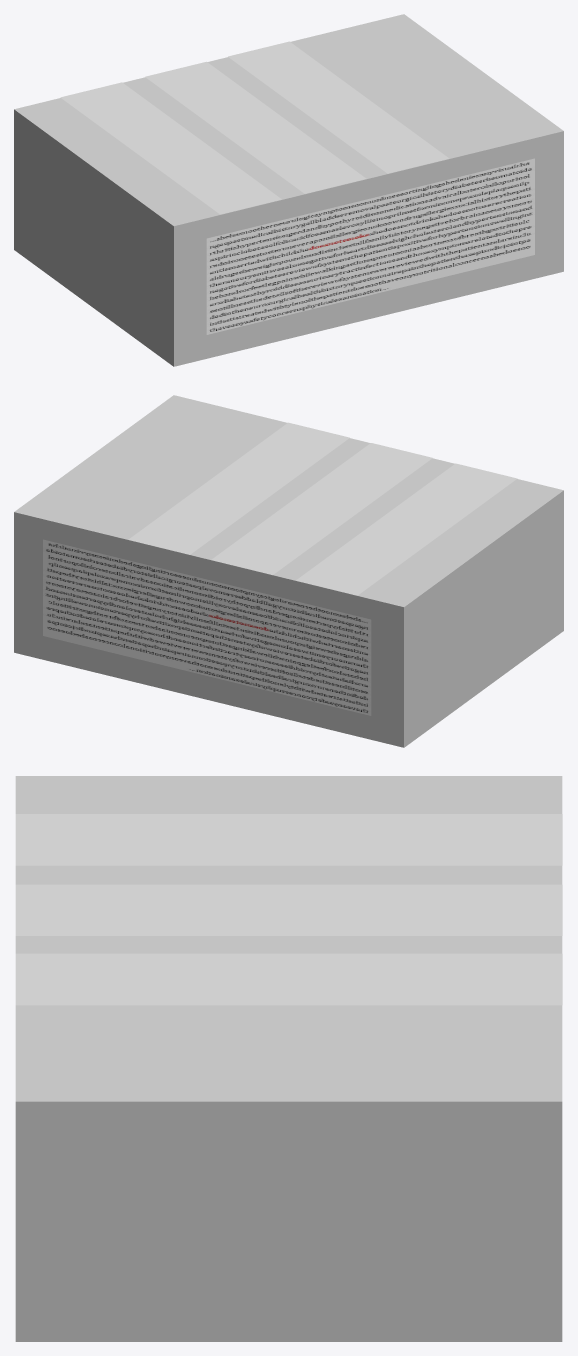
File: Drug7.fbx
The picture shows the model from 3 angles, top to bottom: view 1: azimuth 30°, elevation 25°; view 2: azimuth 150°, elevation 25°; view 3: azimuth 270°, elevation 25°; orthographic projection. The views are drawn at different scales.
Visible parts, largest first — view 1: Cube, Plane.003, Plane.001, Plane, Plane.002; view 2: Cube, Plane.004, Plane, Plane.001, Plane.002; view 3: Cube, Plane.002, Plane, Plane.001.
Boxes of the visible parts, x1,y1,x2,y2 form: Cube: (14,14,563,366); Plane.003: (206,158,534,334); Plane.001: (145,61,366,193); Plane: (60,82,281,214); Plane.002: (228,41,448,173); Cube: (14,395,563,747); Plane.004: (43,539,371,715); Plane: (296,463,517,595); Plane.001: (211,443,432,574); Plane.002: (129,422,349,554); Cube: (15,776,562,1341); Plane.002: (15,953,562,1005); Plane: (15,814,562,865); Plane.001: (15,884,562,935).
Bounding box in the file's own units: 168 × 57.91 × 120.
6 materials, 2 textured.
